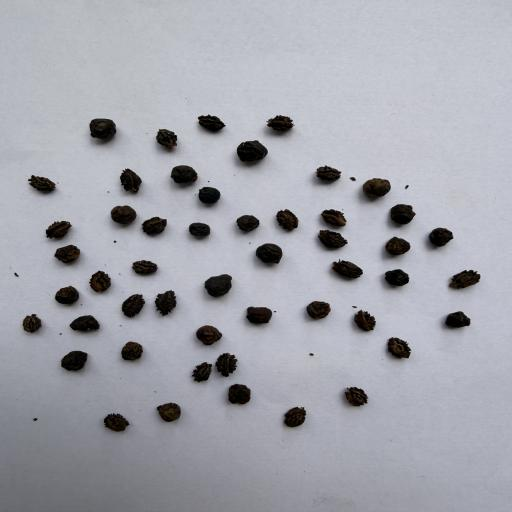Black_pepper: (77, 112, 127, 146), (191, 267, 240, 301), (53, 345, 98, 376), (235, 136, 273, 170), (238, 302, 280, 331), (61, 310, 108, 334), (296, 297, 334, 324), (251, 244, 290, 270), (382, 233, 420, 259), (224, 382, 258, 410), (168, 160, 203, 187), (386, 202, 420, 229), (49, 244, 87, 268), (438, 309, 474, 334), (51, 282, 85, 308), (196, 319, 226, 348), (377, 267, 414, 290), (193, 183, 224, 210), (361, 176, 391, 201), (427, 227, 458, 250), (105, 205, 139, 225), (181, 219, 213, 240), (117, 339, 145, 362), (154, 401, 184, 422), (237, 210, 261, 236)
papaya_seed: (92, 408, 142, 449), (326, 254, 366, 296), (447, 266, 491, 298), (21, 168, 65, 198), (122, 250, 166, 280), (277, 402, 311, 440), (214, 348, 250, 382), (336, 383, 378, 411), (116, 289, 148, 323), (388, 336, 420, 368), (307, 160, 349, 184), (258, 114, 301, 137), (36, 218, 79, 241), (191, 109, 229, 135), (148, 126, 188, 150), (115, 169, 147, 198), (151, 286, 180, 317), (190, 354, 216, 386), (142, 216, 174, 241), (86, 267, 116, 293), (313, 230, 350, 250), (18, 311, 46, 337), (351, 310, 378, 336), (319, 206, 349, 228), (276, 206, 300, 233)
